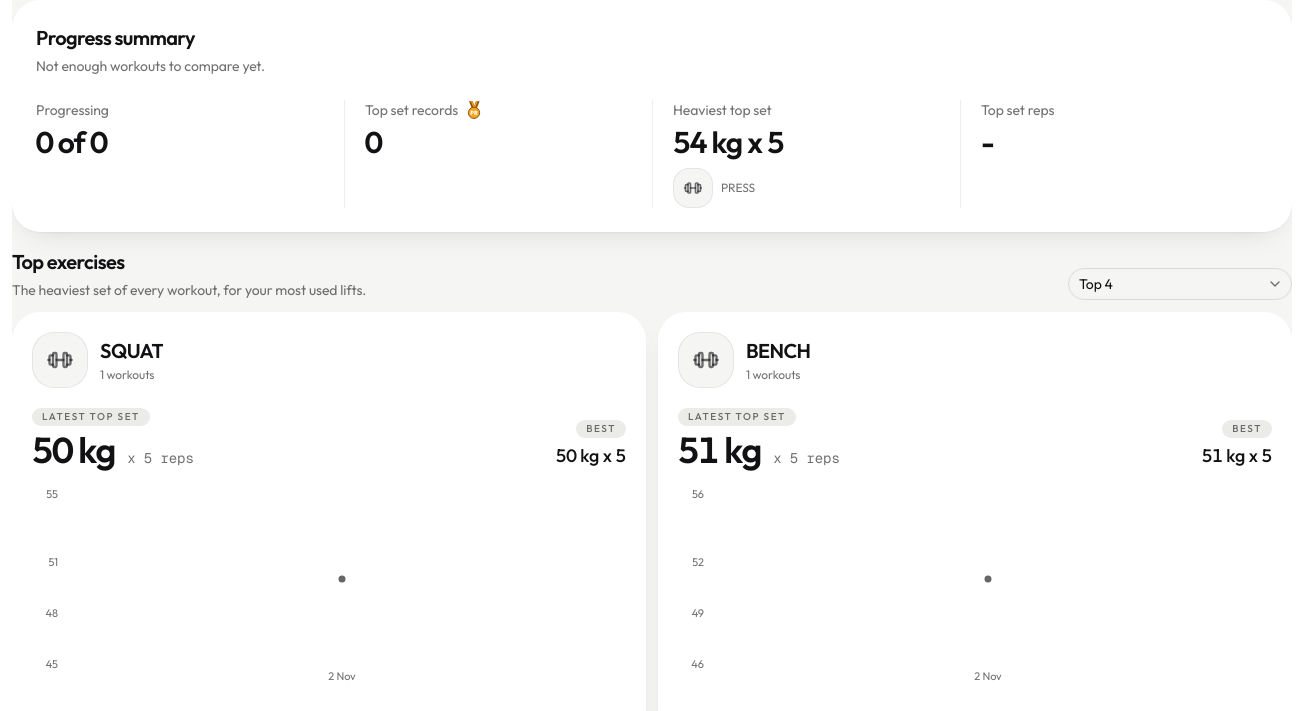
Test case: exercise filter › on a wide screen picks one exercise from a dropdown whose first option is the top ones
The image size is (1304, 711).
Click the dropdown with test id "exercise-filter".
click(1180, 284)  # box [1068, 268, 1292, 300]
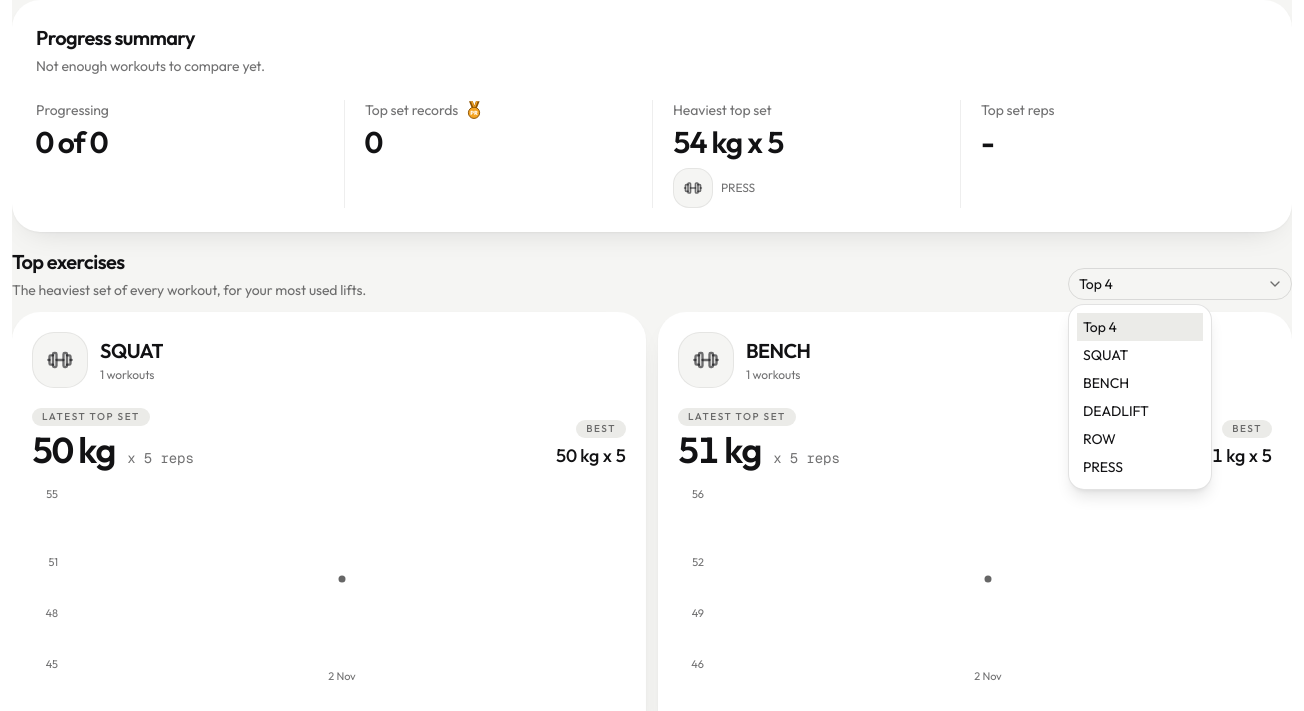
Expected: the option "Top 4" is shown, [1077, 313, 1203, 341]
Expected: the number of options is 6
Click the option with test id "exercise-filter-option-press".
click(1103, 467)  # box [1083, 458, 1123, 476]
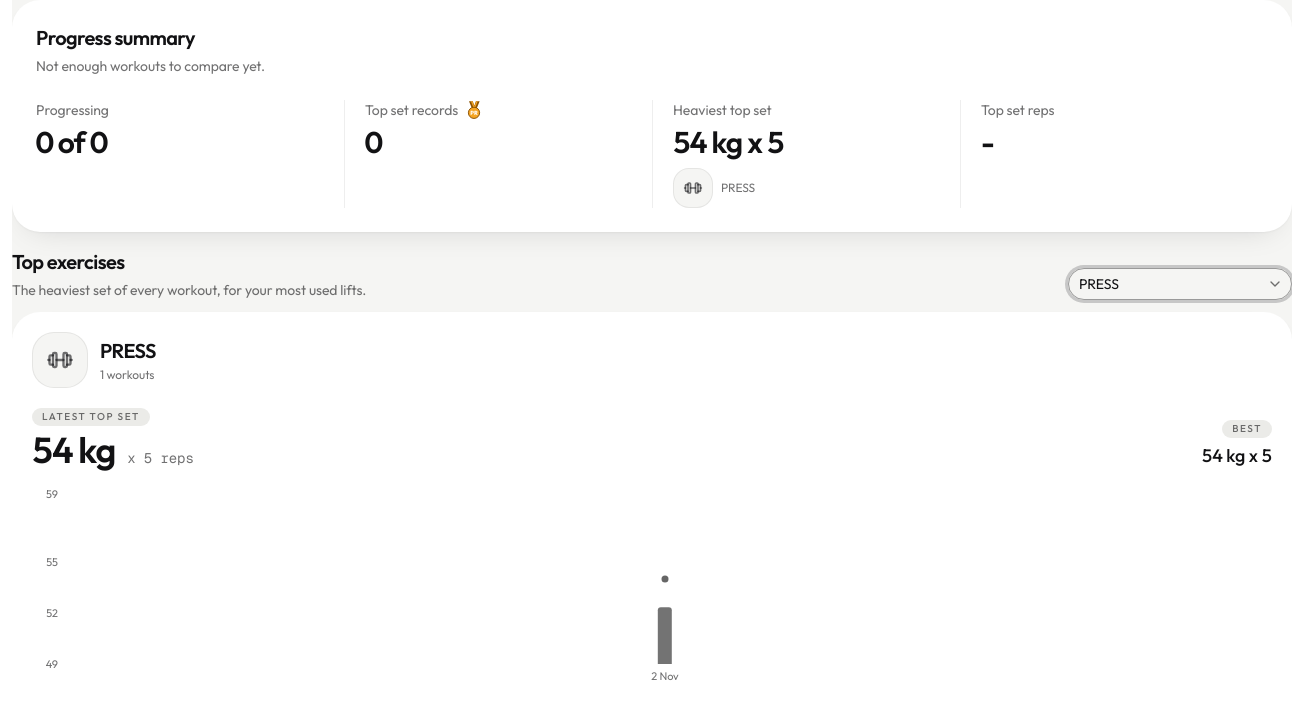
Expected: the dropdown with test id "exercise-filter" shows "PRESS", [1068, 268, 1292, 300]
